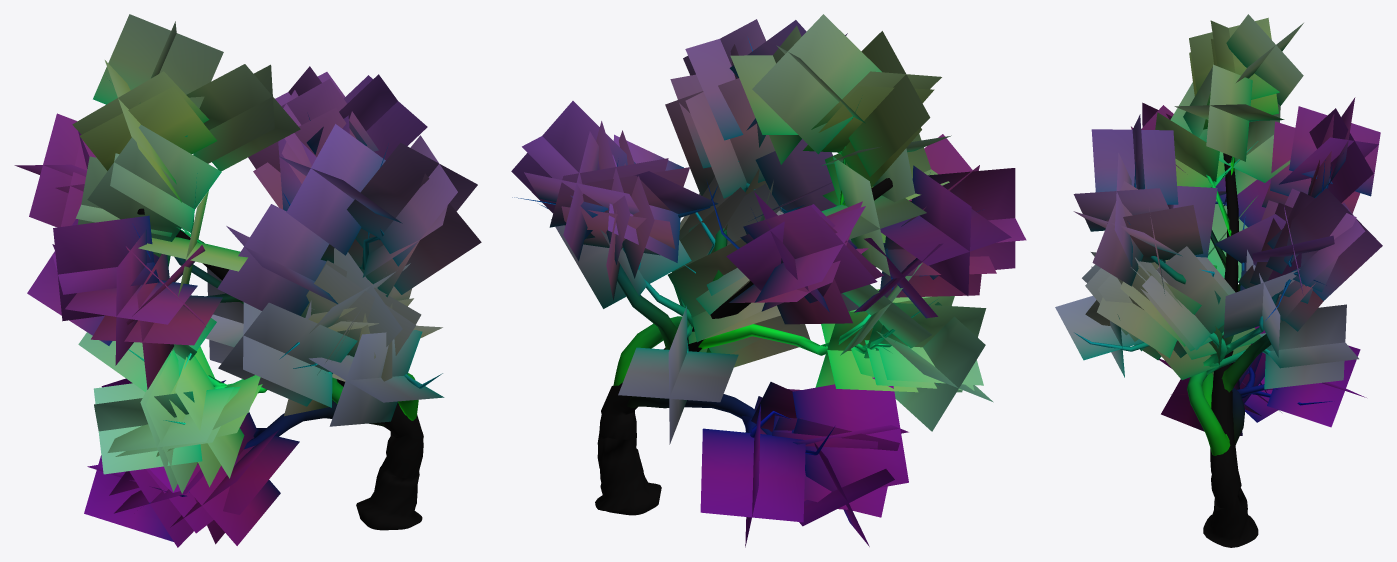
The model's file is URP_P5_Tree_13_LOD_0.fbx.
3 views of the same model, side by side, from view 1: azimuth 30°, elevation 25°; view 2: azimuth 150°, elevation 25°; view 3: azimuth 270°, elevation 25° (orthographic). The views are drawn at different scales.
Parts seen in each view (by area): view 1: Tree_13_LOD_0; view 2: Tree_13_LOD_0; view 3: Tree_13_LOD_0.
Boxes of the visible parts, x1,y1,x2,y2 form: Tree_13_LOD_0: (14,14,481,547); Tree_13_LOD_0: (511,14,1026,547); Tree_13_LOD_0: (1055,14,1382,547).
Bounding box in the file's own units: 400 × 482 × 324.
